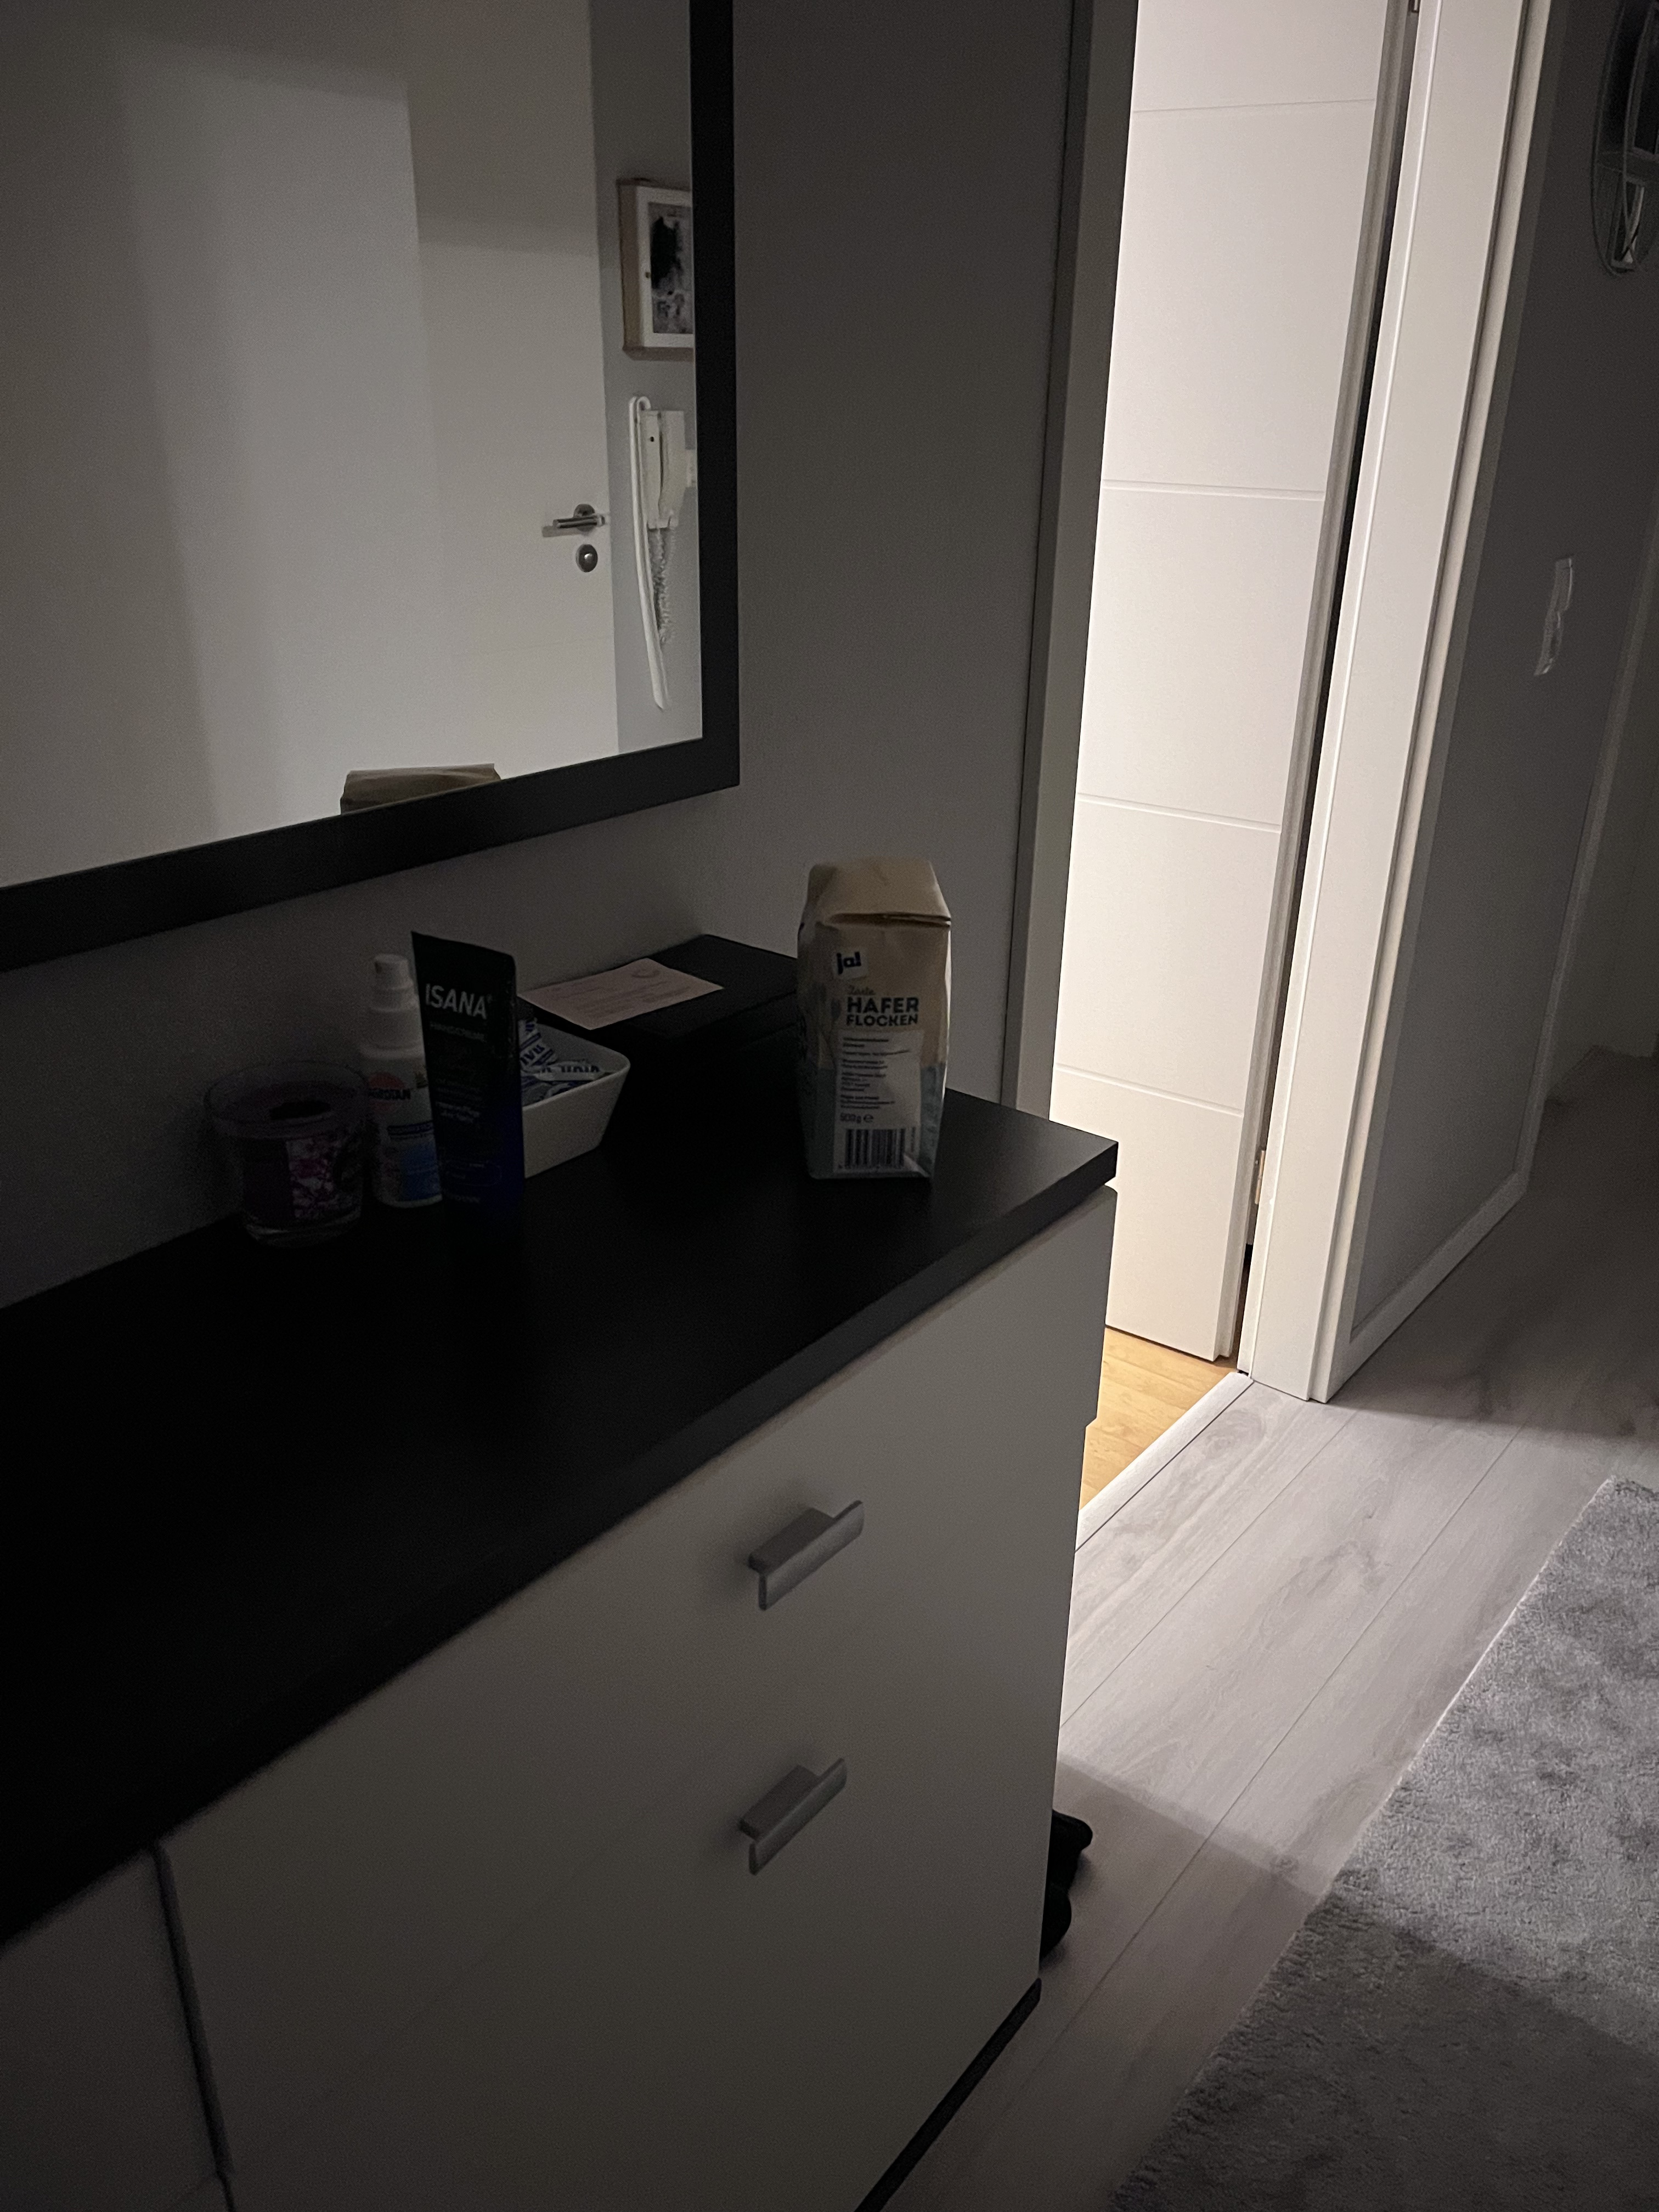haferflocken_ja: (796, 855, 957, 1184)
